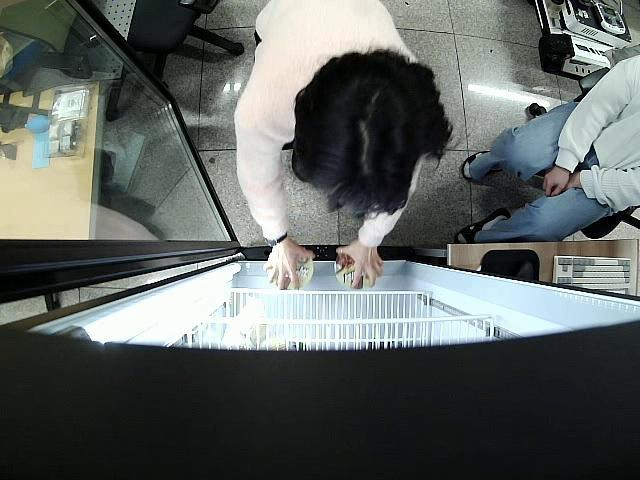03_chapagetti_L: (266, 246, 313, 289), (334, 246, 382, 288)
